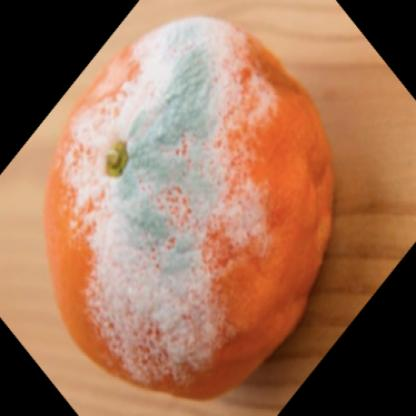rotten: (46, 21, 331, 403)
